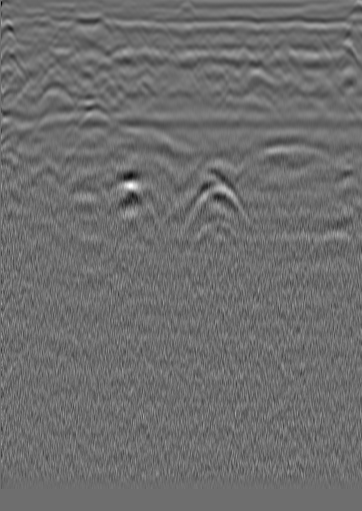가스: (105, 180, 143, 218)
상수: (314, 29, 334, 49)
오수: (29, 38, 49, 58)
우수: (169, 39, 189, 59)
